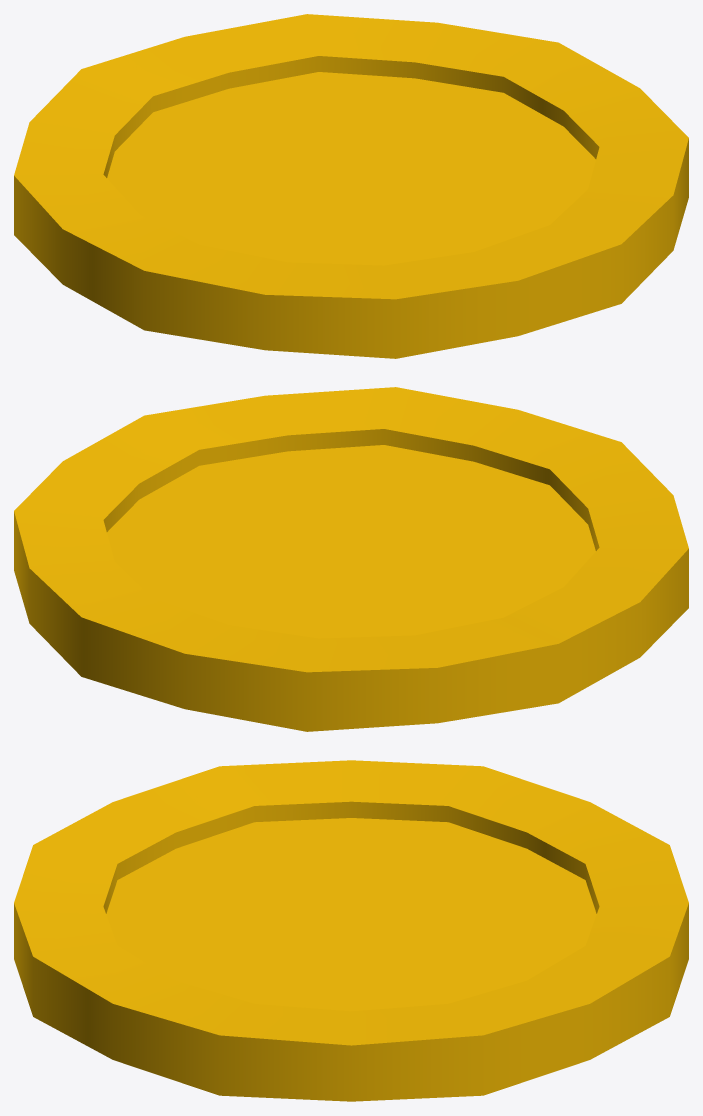
File: Coin.fbx
3 views of the same model, one above another, from view 1: azimuth 30°, elevation 25°; view 2: azimuth 150°, elevation 25°; view 3: azimuth 270°, elevation 25° (orthographic).
Parts seen in each view (by area): view 1: Coin; view 2: Coin; view 3: Coin.
Part boxes in pixels (x1,y1,x2,y2): Coin: [14, 14, 688, 358]; Coin: [14, 387, 688, 731]; Coin: [14, 760, 688, 1101].
Size of the model in its own units: 200 by 19.72 by 200.
